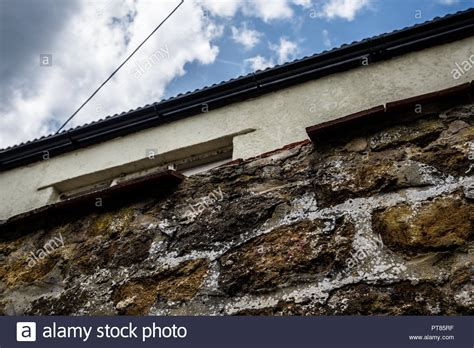pole: (56, 3, 192, 108)
